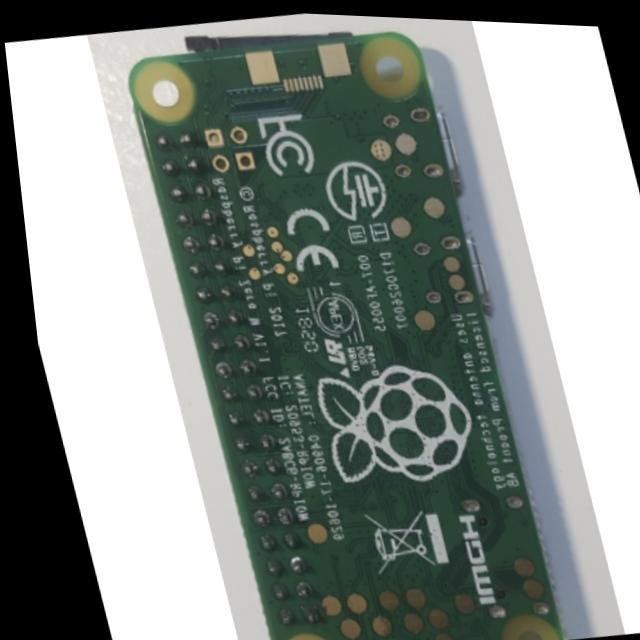Raspberry-Pi-Zero-WH: (131, 34, 565, 640)
